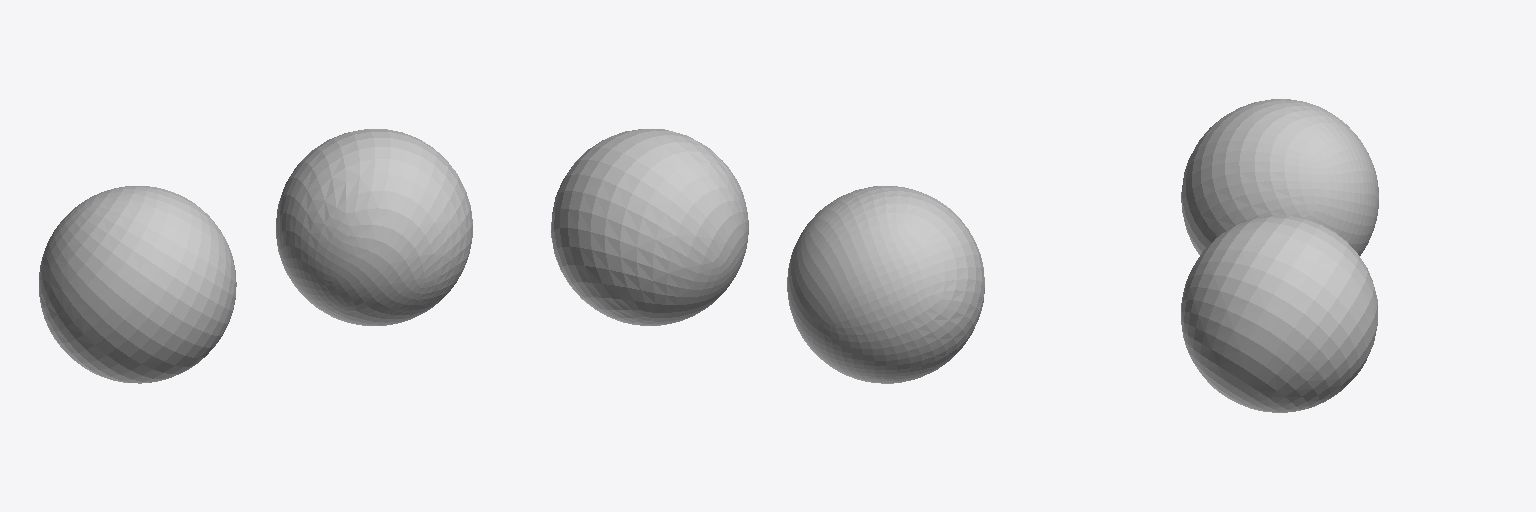
The model's file is Eyeballs_unwrapEyeballs_low.obj.
3 views of the same model, side by side, from view 1: azimuth 30°, elevation 25°; view 2: azimuth 150°, elevation 25°; view 3: azimuth 270°, elevation 25° (orthographic).
Visible parts, largest first — view 1: Group1; view 2: Group1; view 3: Group1.
Part boxes in pixels (x1,y1,x2,y2): Group1: (39, 129, 472, 383); Group1: (551, 129, 984, 383); Group1: (1181, 99, 1378, 412).
Size of the model in its own units: 1.3 by 0.5475 by 0.5471.